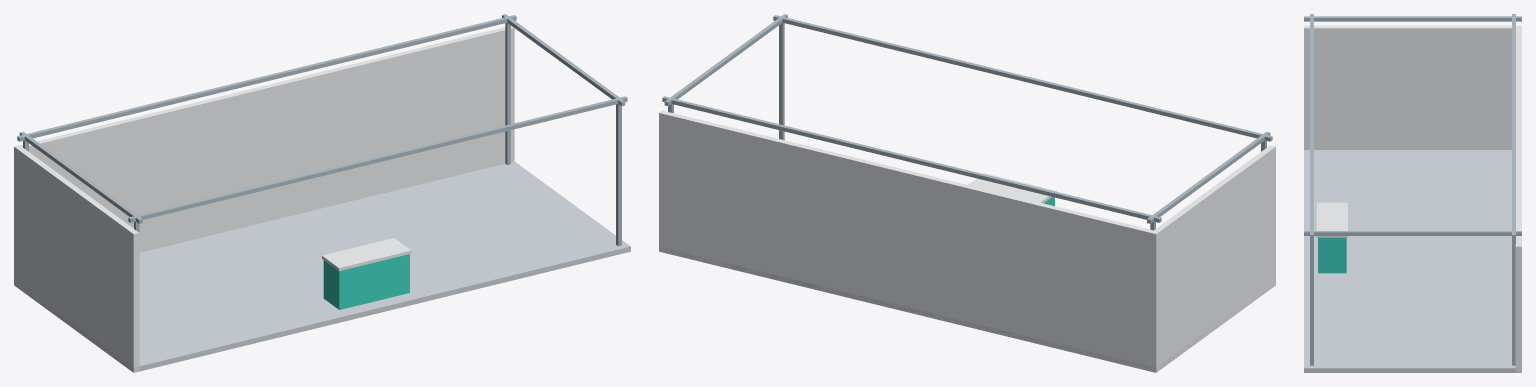
The picture shows the model from 3 angles, left to right: view 1: azimuth 30°, elevation 25°; view 2: azimuth 150°, elevation 25°; view 3: azimuth 270°, elevation 25°; orthographic projection. The views are drawn at different scales.
Visible parts, largest first — view 1: Exhibition Booth Concept; view 2: Exhibition Booth Concept; view 3: Exhibition Booth Concept.
Part boxes in pixels (bbox=[...]): Exhibition Booth Concept: bbox=[14, 14, 630, 372]; Exhibition Booth Concept: bbox=[659, 14, 1275, 372]; Exhibition Booth Concept: bbox=[1304, 14, 1521, 372].
Size of the model in its own units: 12 by 3.49 by 5.
